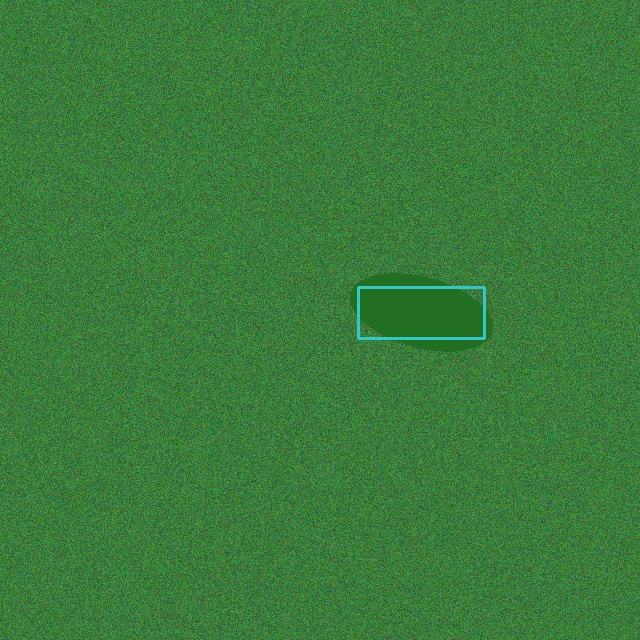army worm: (348, 277, 494, 348)
